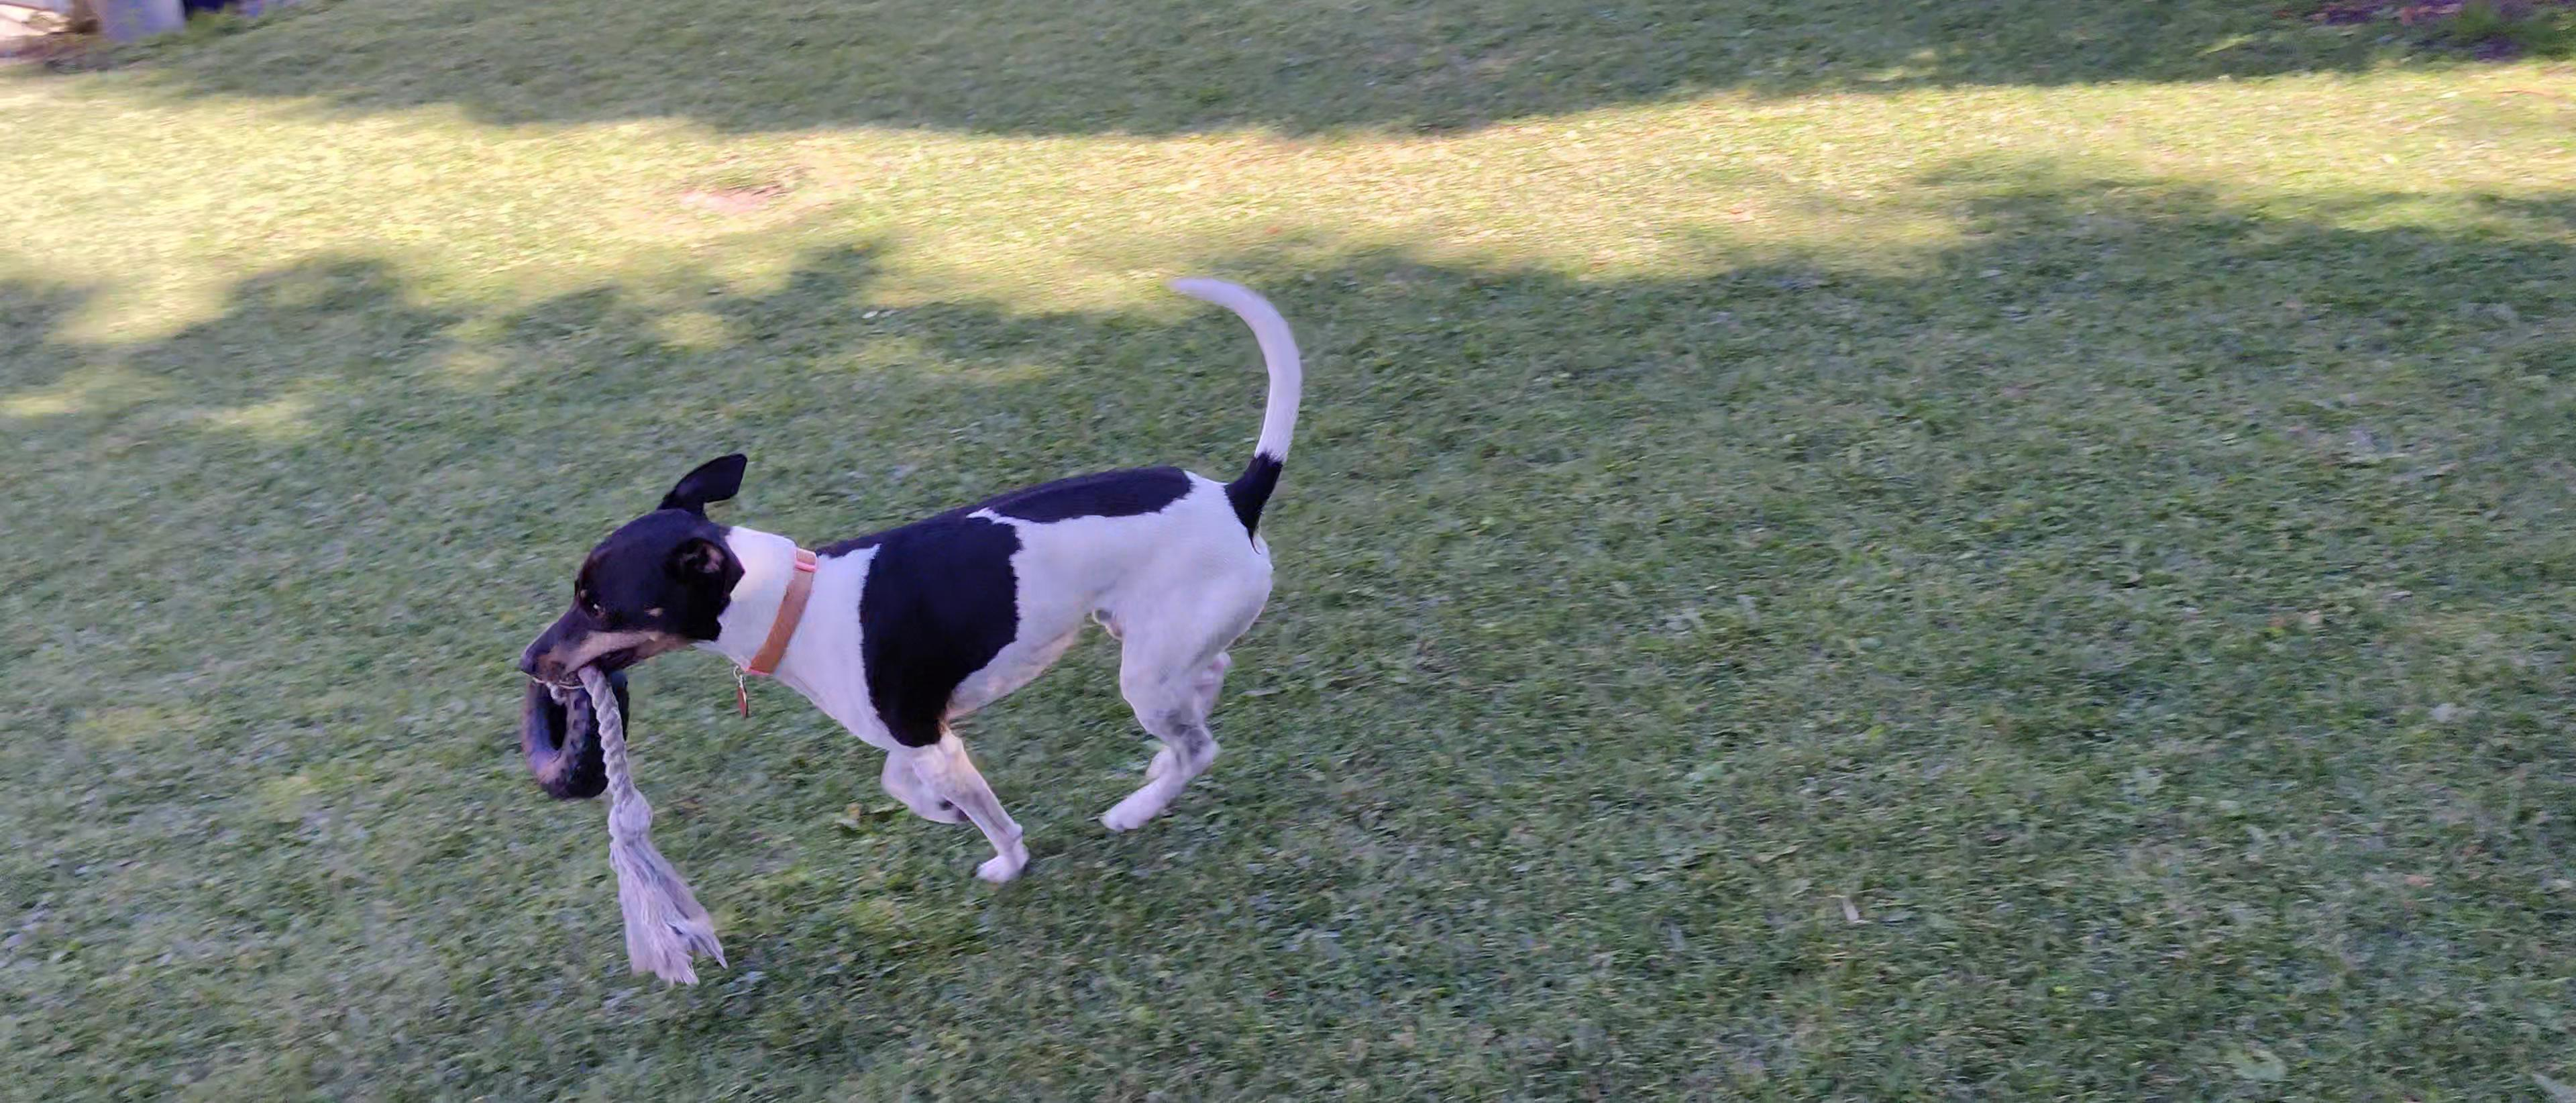Dog: (513, 266, 1309, 886)
